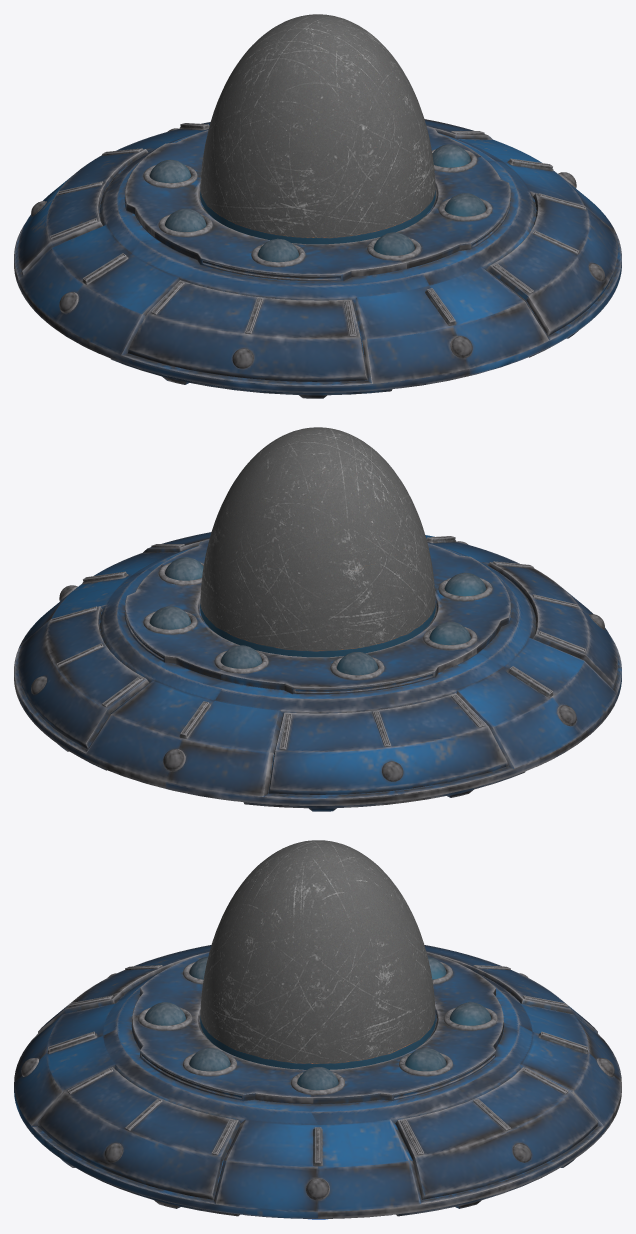
Rendered from UFO.obj.
3 views of the same model, one above another, from view 1: azimuth 30°, elevation 25°; view 2: azimuth 150°, elevation 25°; view 3: azimuth 270°, elevation 25° (orthographic).
Parts seen in each view (by area): view 1: UFO; view 2: UFO; view 3: UFO.
Boxes of the visible parts, bbox=[...] form: UFO: bbox=[14, 14, 621, 398]; UFO: bbox=[14, 427, 621, 811]; UFO: bbox=[14, 840, 621, 1219].
Bounding box in the file's own units: 5.29 × 3.05 × 5.29.
